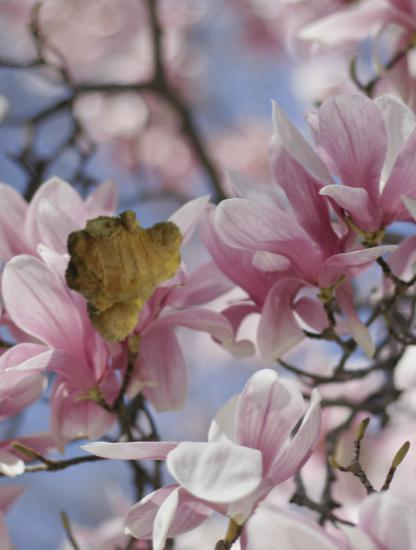Ginger: (63, 209, 194, 340)
